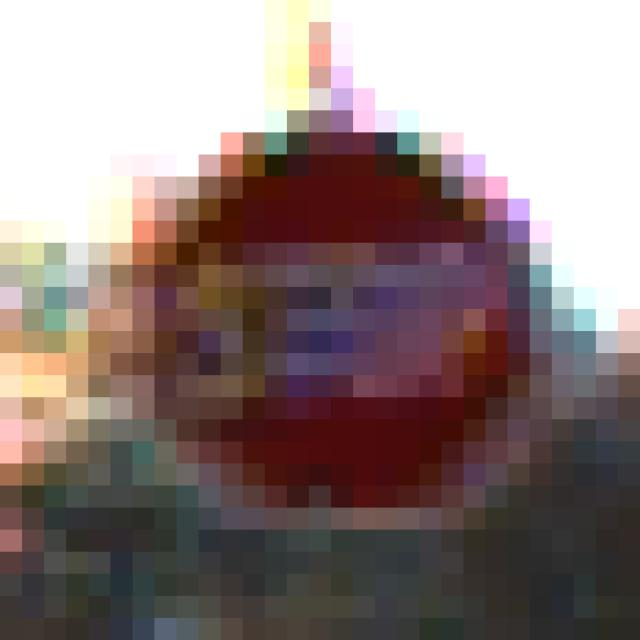STOP: (134, 111, 531, 531)
